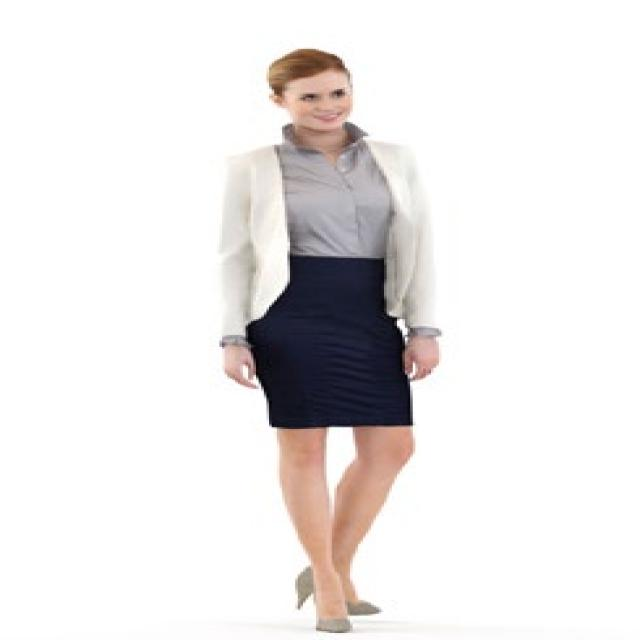standing: (211, 45, 451, 640)
